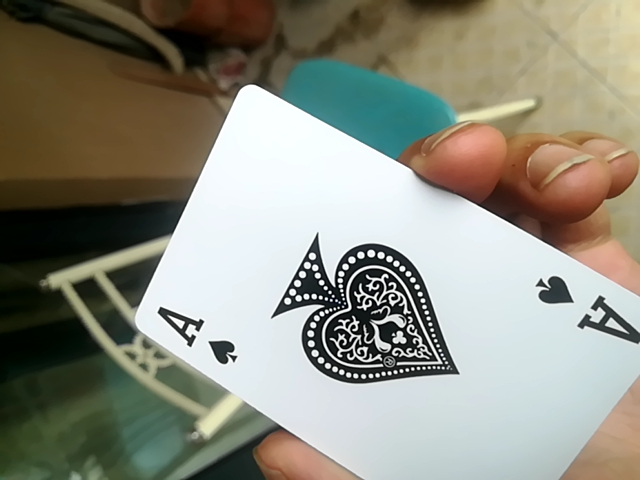ht a: (108, 82, 640, 477)
